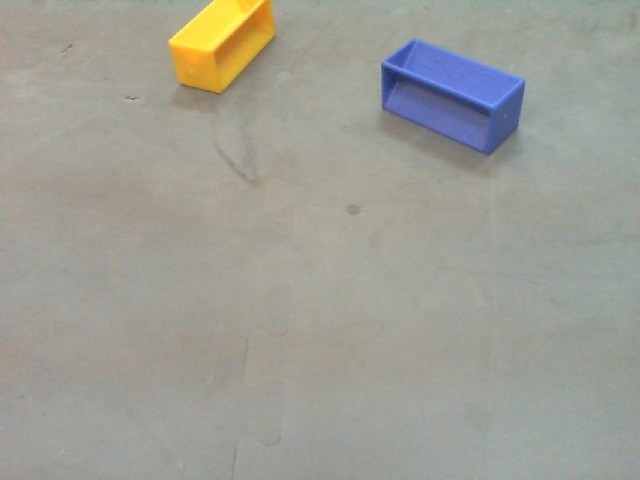BlueSample: (380, 38, 527, 162)
YellowSample: (167, 1, 279, 93)
